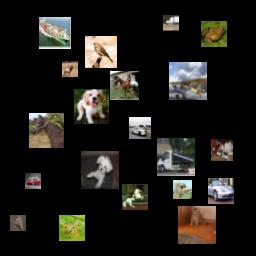airplane: (169, 62, 207, 100)
automobile: (208, 178, 234, 204), (129, 117, 151, 139), (25, 173, 41, 189)
bird: (85, 36, 117, 68), (173, 180, 192, 199), (10, 215, 26, 231)
cat: (178, 206, 216, 244)
deer: (59, 215, 85, 241), (62, 61, 78, 77)
dog: (81, 151, 119, 189), (74, 89, 109, 124), (211, 139, 233, 161)
frog: (201, 21, 227, 47)
ship: (39, 17, 71, 49)
truck: (157, 138, 195, 176), (163, 15, 179, 31)
